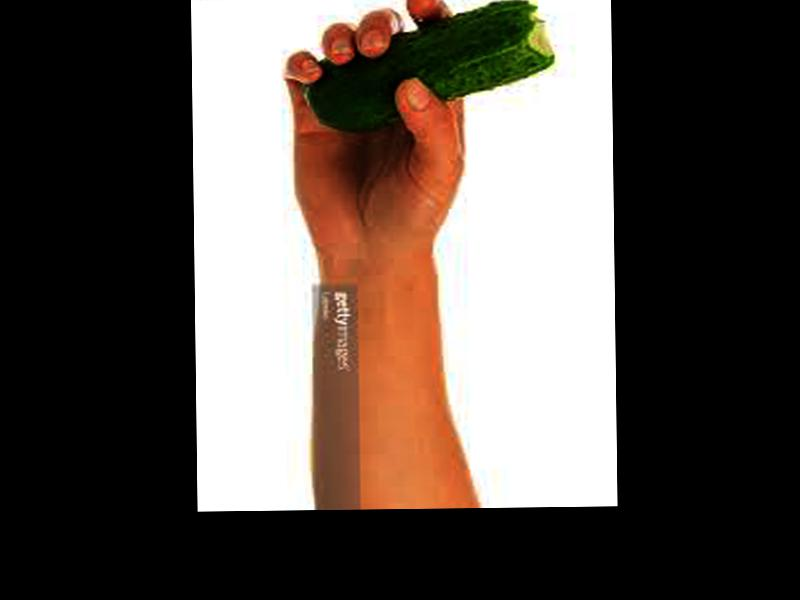Cucumber: (305, 0, 555, 131)
